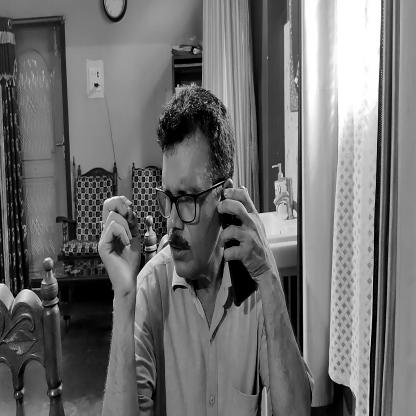Distracted: (155, 86, 229, 284)
